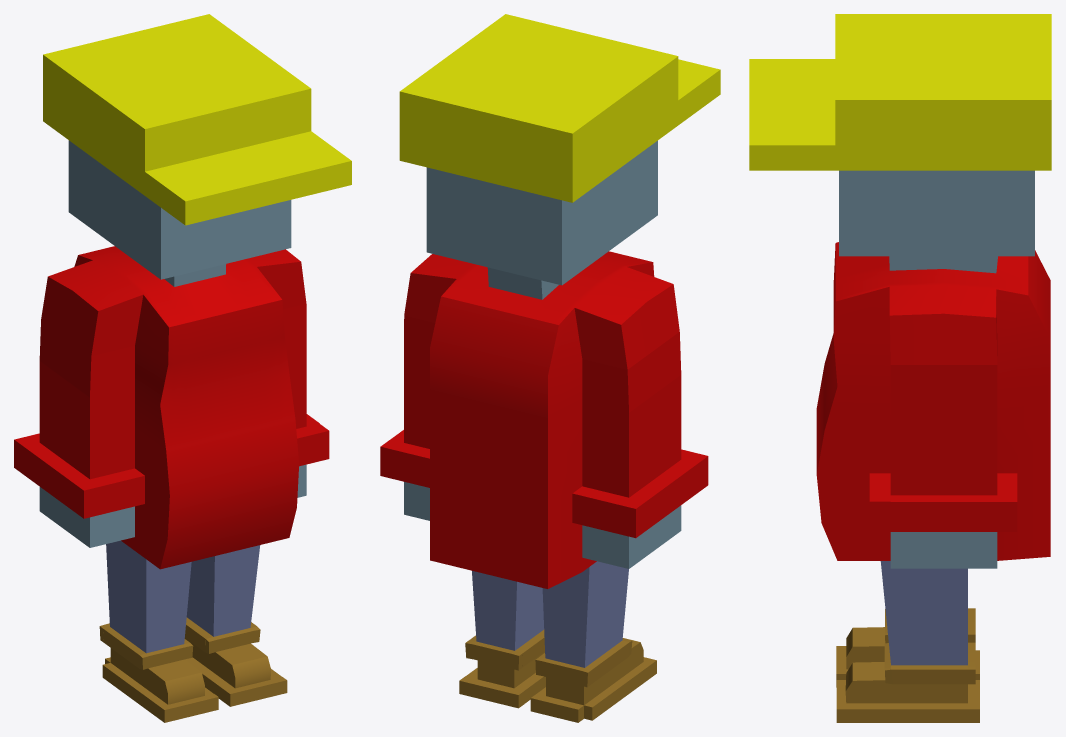
File: CharV2.fbx
3 views of the same model, side by side, from view 1: azimuth 30°, elevation 25°; view 2: azimuth 150°, elevation 25°; view 3: azimuth 270°, elevation 25° (orthographic). The views are drawn at different scales.
Parts seen in each view (by area): view 1: polySurface1; view 2: polySurface1; view 3: polySurface1.
Boxes of the visible parts, x1=… form: polySurface1: x1=14, y1=14, x2=351, y2=722; polySurface1: x1=380, y1=14, x2=720, y2=722; polySurface1: x1=749, y1=14, x2=1051, y2=722.
Bounding box in the file's own units: 6.26 × 14.58 × 6.28.
